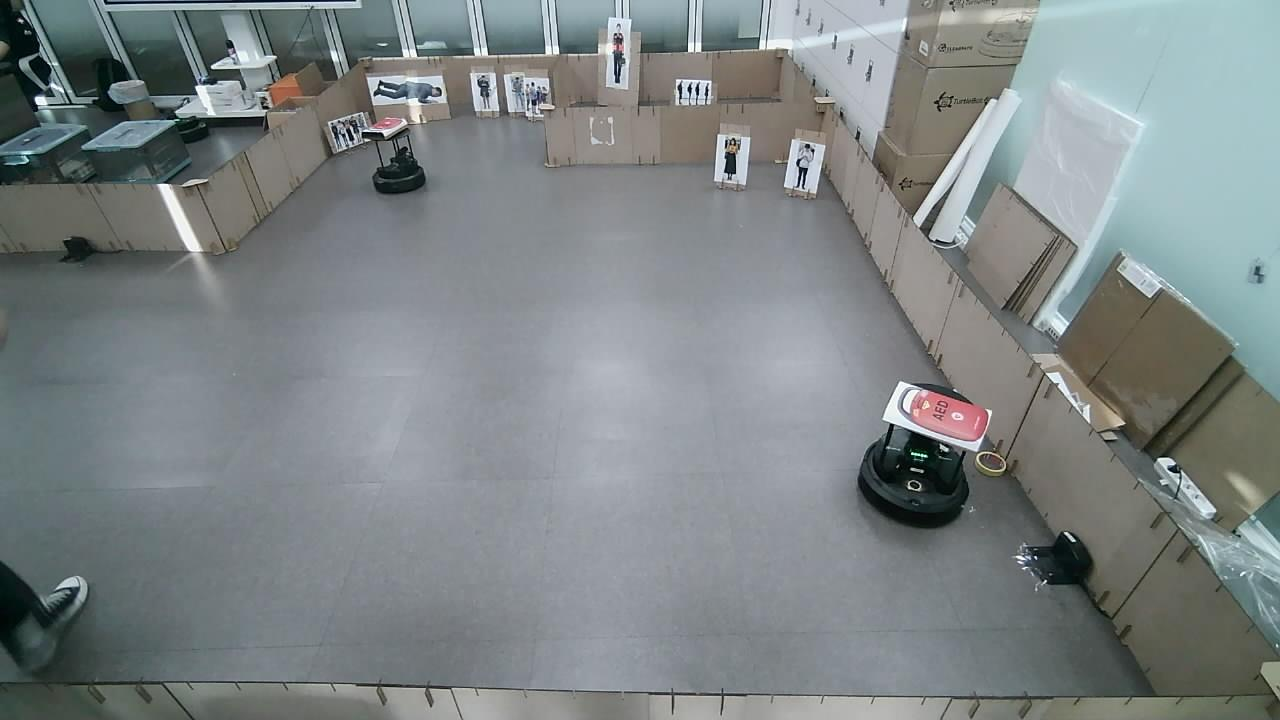AED: (882, 381, 990, 450), (363, 118, 407, 139)
Patient: (374, 79, 443, 102)
Responder: (614, 24, 623, 82)
Robot: (859, 426, 976, 524), (365, 128, 425, 193)
